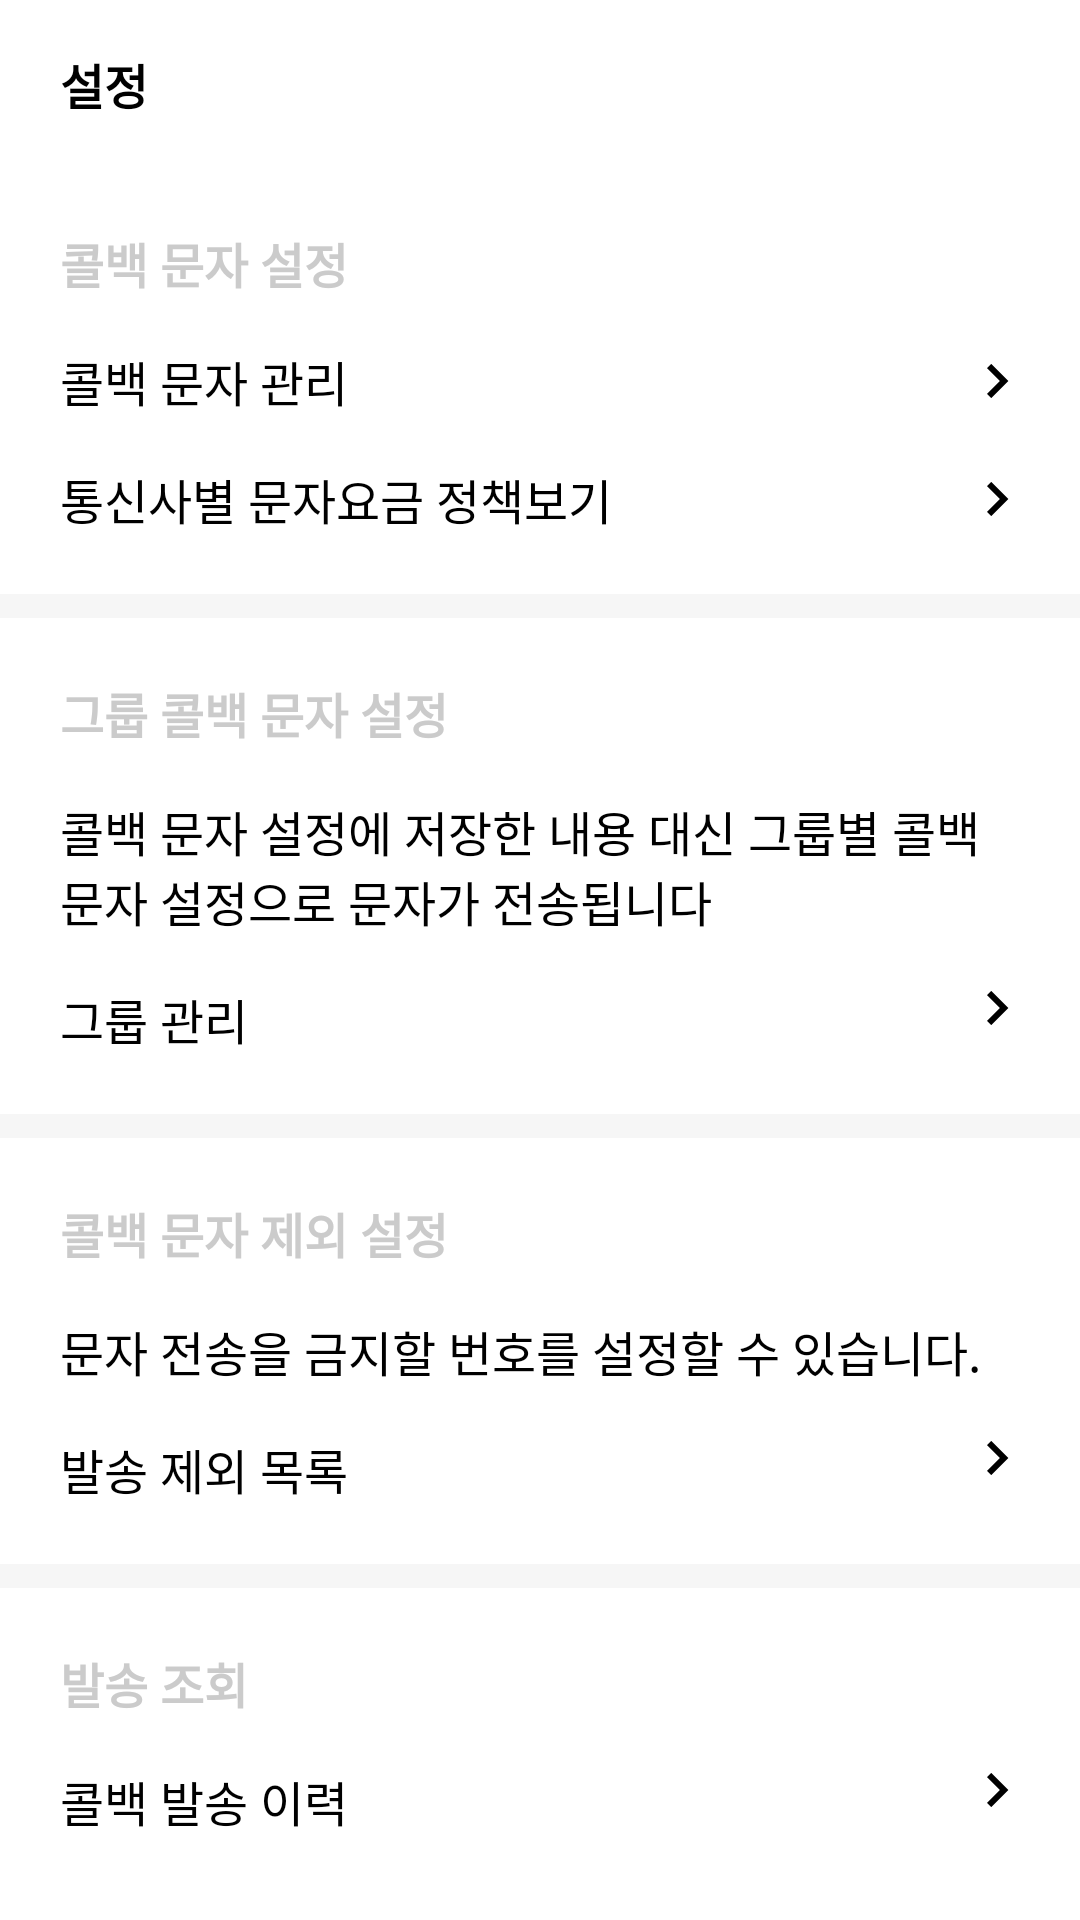

Point at icon controls on the screen. Image size 1080px×1920px, points as (x,y).
arrow right: (997,381), (997,499), (997,1008), (997,1458), (997,1790)
